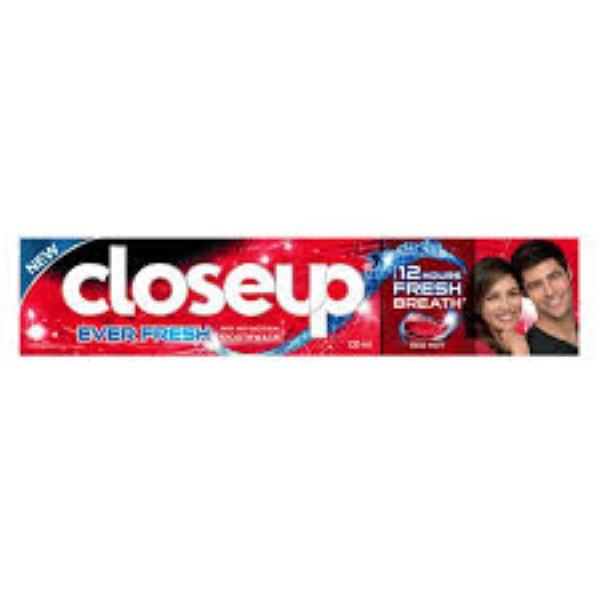CloseUp: (13, 220, 596, 379)
